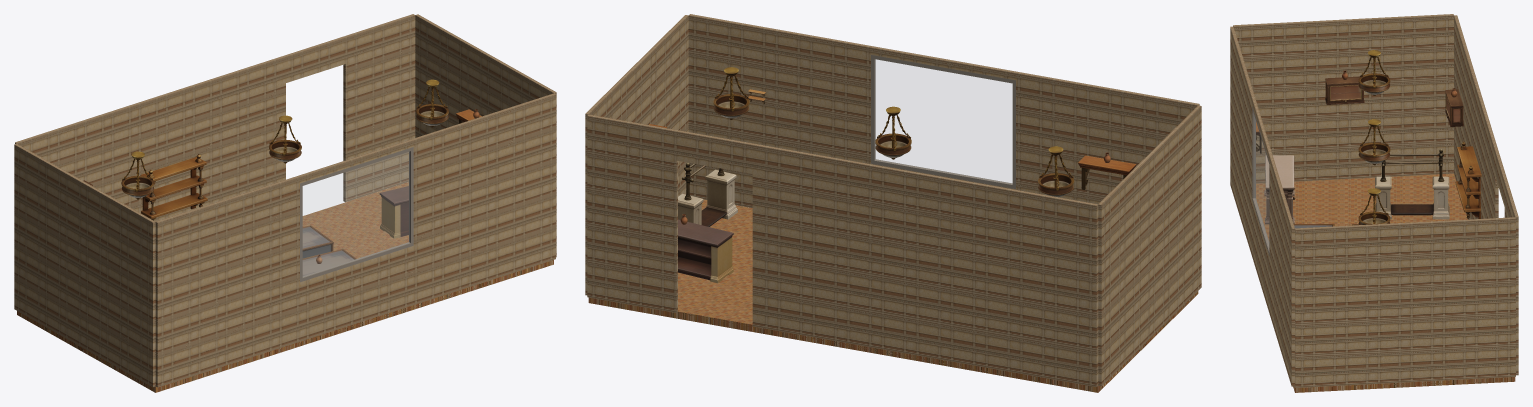
File: european-sales-b.glb
3 views of the same model, side by side, from view 1: azimuth 30°, elevation 25°; view 2: azimuth 150°, elevation 25°; view 3: azimuth 270°, elevation 25° (orthographic). The views are drawn at different scales.
Parts seen in each view (by area): view 1: geometry_0.004, geometry_0.002, geometry_0.003, glass, geometry_0.001, geometry_0, geometry_0.011, frame, geometry_0.006, geometry_0.020, geometry_0.022, geometry_0.018 (+2 smaller); view 2: geometry_0.002, geometry_0.004, geometry_0.003, glass, geometry_0, geometry_0.001, geometry_0.006, frame, geometry_0.005, geometry_0.020, geometry_0.022, geometry_0.018 (+1 smaller); view 3: geometry_0.001, geometry_0.003, geometry_0.004, geometry_0, geometry_0.002, geometry_0.012, geometry_0.011, glass, geometry_0.008, geometry_0.013, geometry_0.018, geometry_0.020 (+3 smaller).
Boxes of the visible parts, left/top/right/bottom form: geometry_0.004: left=155, top=93, right=555, bottom=387; geometry_0.002: left=15, top=14, right=415, bottom=221; geometry_0.003: left=14, top=143, right=155, bottom=386; glass: left=303, top=152, right=409, bottom=276; geometry_0.001: left=415, top=14, right=556, bottom=257; geometry_0: left=17, top=182, right=553, bottom=392; geometry_0.011: left=140, top=154, right=207, bottom=220; frame: left=300, top=147, right=413, bottom=282; geometry_0.006: left=379, top=186, right=408, bottom=238; geometry_0.020: left=269, top=115, right=301, bottom=163; geometry_0.022: left=416, top=79, right=448, bottom=127; geometry_0.018: left=121, top=151, right=154, bottom=199; geometry_0.002: left=587, top=114, right=1098, bottom=386; geometry_0.004: left=688, top=14, right=1199, bottom=207; geometry_0.003: left=1098, top=105, right=1201, bottom=386; glass: left=875, top=59, right=1012, bottom=183; geometry_0: left=588, top=199, right=1198, bottom=392; geometry_0.001: left=585, top=15, right=688, bottom=295; geometry_0.006: left=678, top=219, right=733, bottom=283; frame: left=871, top=55, right=1015, bottom=189; geometry_0.005: left=678, top=162, right=737, bottom=226; geometry_0.020: left=875, top=106, right=911, bottom=159; geometry_0.022: left=713, top=67, right=749, bottom=119; geometry_0.018: left=1038, top=146, right=1074, bottom=197; geometry_0.001: left=1295, top=217, right=1515, bottom=387; geometry_0.003: left=1233, top=14, right=1453, bottom=183; geometry_0.004: left=1230, top=26, right=1294, bottom=386; geometry_0: left=1256, top=173, right=1515, bottom=392; geometry_0.002: left=1454, top=15, right=1518, bottom=375; geometry_0.012: left=1375, top=149, right=1449, bottom=219; geometry_0.011: left=1455, top=141, right=1481, bottom=218; glass: left=1254, top=117, right=1268, bottom=245; geometry_0.008: left=1264, top=155, right=1295, bottom=224; geometry_0.013: left=1325, top=76, right=1364, bottom=104; geometry_0.018: left=1358, top=50, right=1390, bottom=95; geometry_0.020: left=1358, top=119, right=1390, bottom=165.
Bounding box in the file's own units: 8.04 × 2.86 × 4.54.
14 materials, 12 textured.
